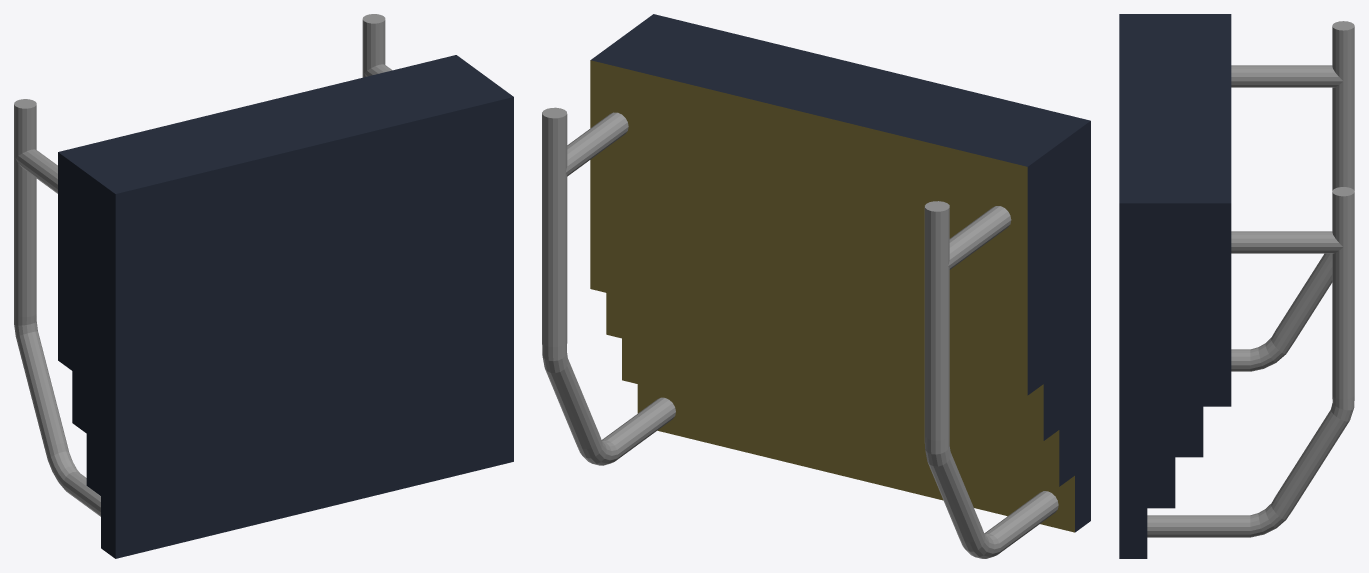
Rendered from Stairs W Outer Railing.fbx.
3 renders of one model, left to right at view 1: azimuth 30°, elevation 25°; view 2: azimuth 150°, elevation 25°; view 3: azimuth 270°, elevation 25°, orthographic. The views are drawn at different scales.
Visible parts, largest first — view 1: Stairs W Outerr Railing; view 2: Stairs W Outerr Railing; view 3: Stairs W Outerr Railing.
Boxes of the visible parts, box(x1,y1,x2,y2) form: Stairs W Outerr Railing: box(14, 14, 513, 558); Stairs W Outerr Railing: box(542, 14, 1090, 558); Stairs W Outerr Railing: box(1119, 14, 1354, 558).
Size of the model in its own units: 800 by 700 by 420.
